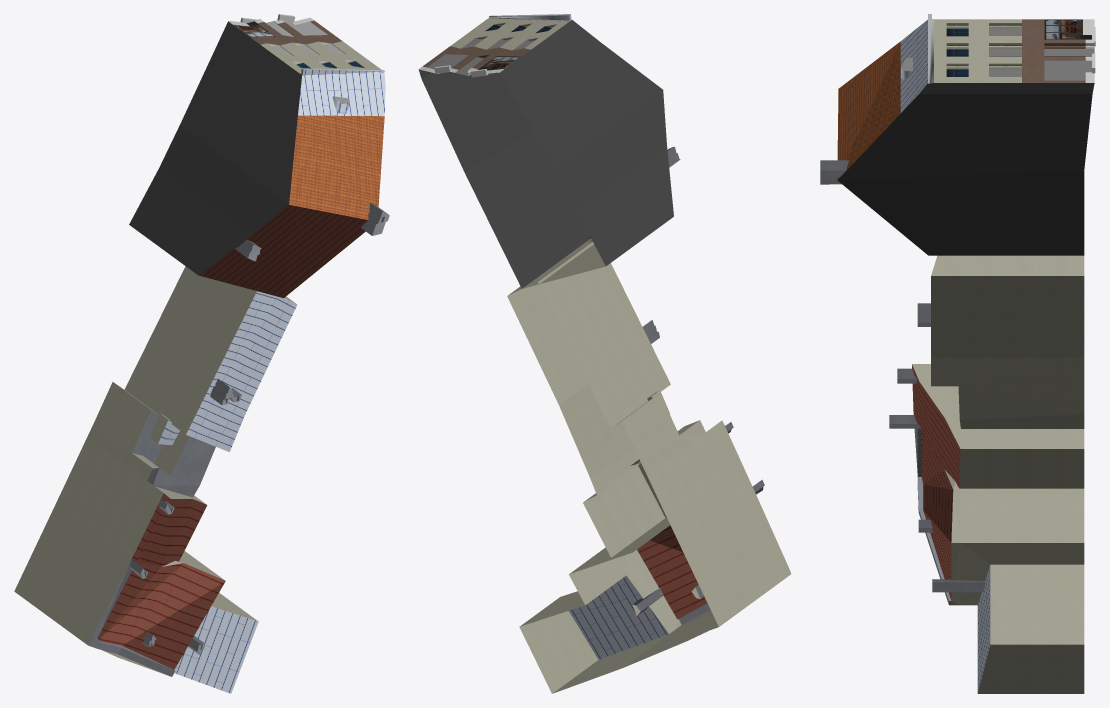
Rendered from Viru_20-origo.obj.
The picture shows the model from 3 angles, left to right: view 1: azimuth 30°, elevation 25°; view 2: azimuth 150°, elevation 25°; view 3: azimuth 270°, elevation 25°; orthographic projection. The views are drawn at different scales.
Parts seen in each view (by area): view 1: Viru_20; view 2: Viru_20; view 3: Viru_20.
Boxes of the visible parts, x1,y1,x2,y2 form: Viru_20: (14, 14, 389, 693); Viru_20: (418, 14, 791, 693); Viru_20: (820, 14, 1095, 693).
Size of the model in its own units: 28.94 by 57.5 by 20.28.
